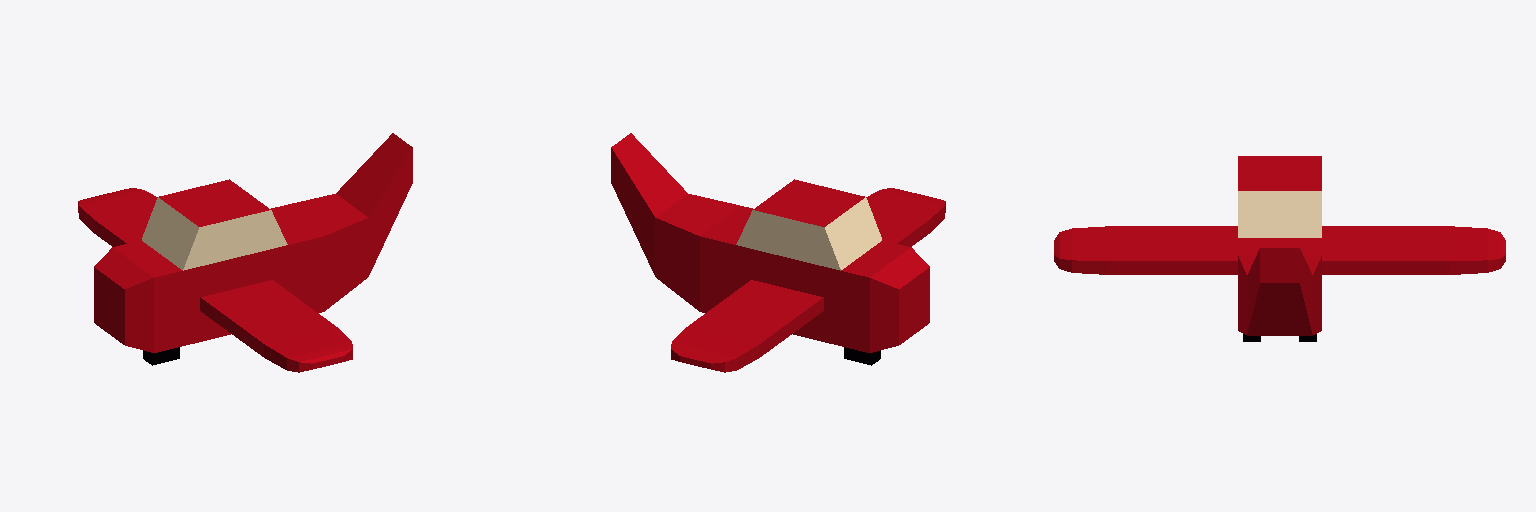
Rendered from Avioneta.obj.
The picture shows the model from 3 angles: view 1: azimuth 30°, elevation 25°; view 2: azimuth 150°, elevation 25°; view 3: azimuth 270°, elevation 25°; orthographic projection.
Visible parts, largest first — view 1: Avioneta; view 2: Avioneta; view 3: Avioneta.
Boxes of the visible parts, x1,y1,x2,y2 form: Avioneta: [78, 133, 412, 372]; Avioneta: [611, 133, 945, 372]; Avioneta: [1054, 156, 1505, 341].
Bounding box in the file's own units: 8.13 × 4.24 × 10.82.